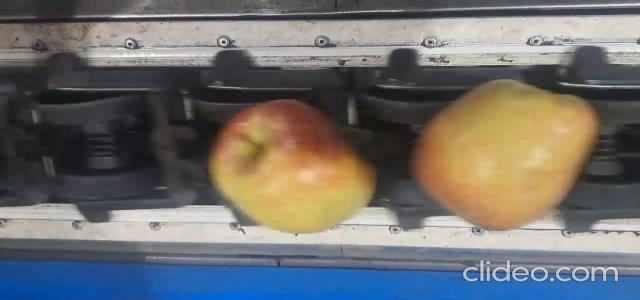apple: (412, 79, 599, 229), (209, 100, 375, 233)
